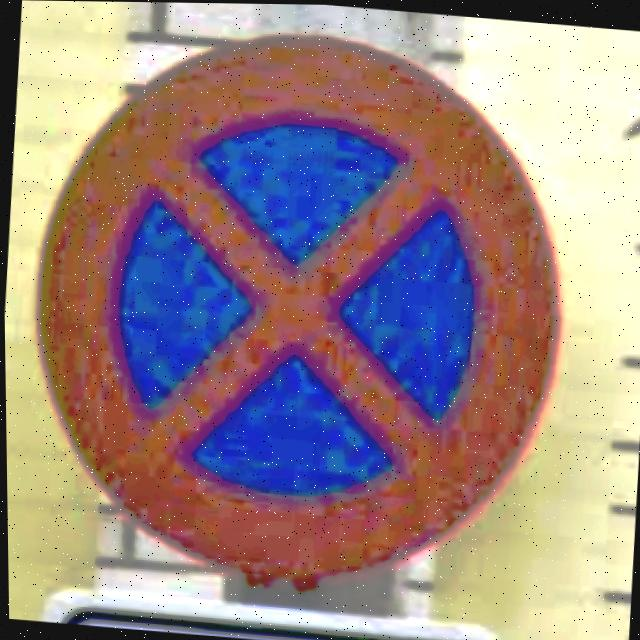nopark: (32, 34, 565, 592)
